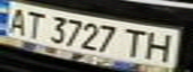2: (78, 19, 103, 52)
3: (42, 14, 69, 45)
7: (96, 21, 121, 55), (60, 17, 84, 48)
A: (0, 5, 33, 35)
H: (139, 29, 181, 63)
T: (118, 26, 151, 59), (18, 9, 51, 38)
